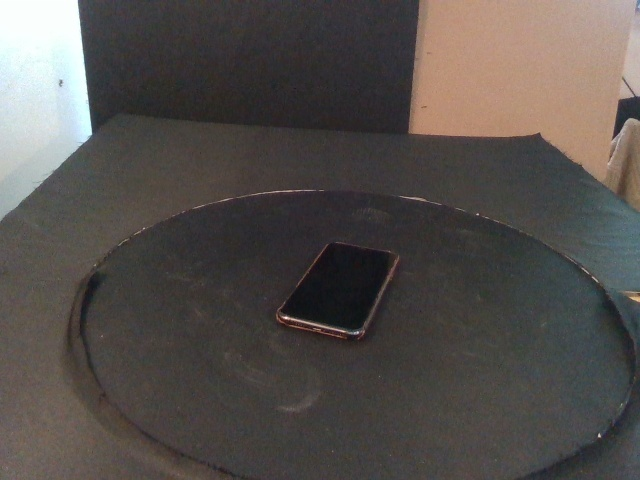phone: (275, 240, 401, 342)
